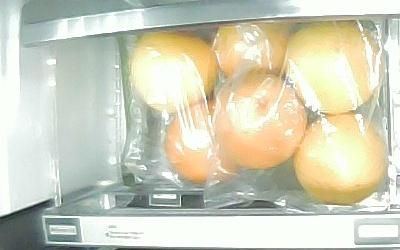grapefruit_vinyl: (217, 72, 308, 172), (292, 115, 388, 205), (290, 21, 381, 115), (130, 29, 216, 111), (166, 103, 237, 184), (214, 22, 289, 77)
